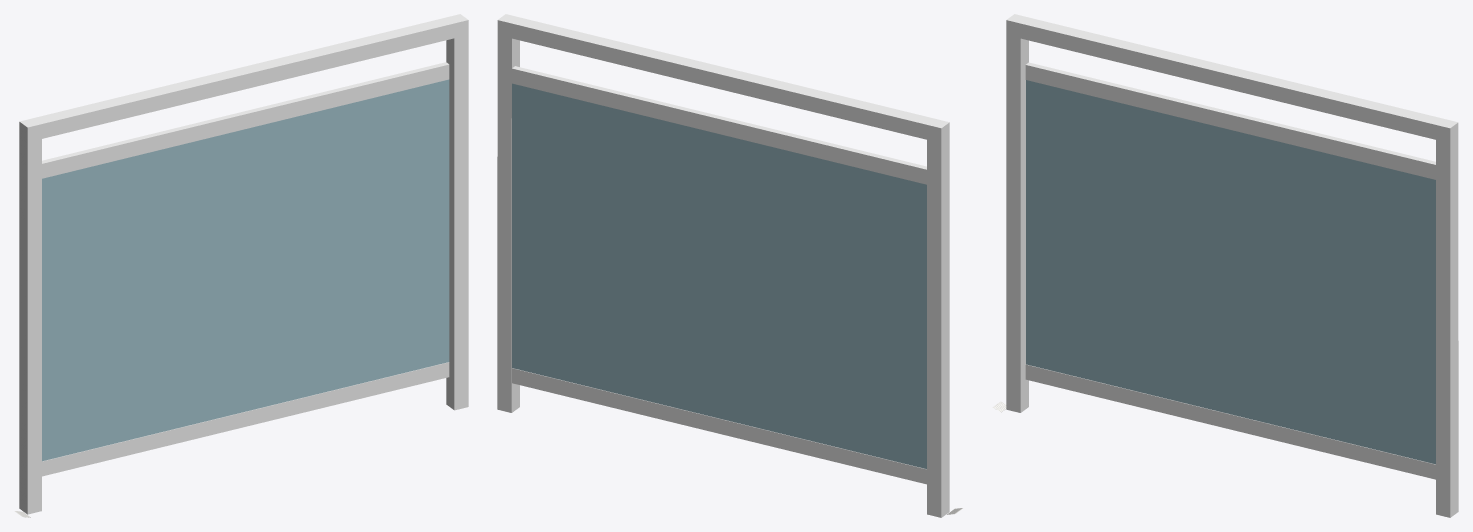
The model's file is railing.glb.
3 renders of one model, left to right at view 1: azimuth 30°, elevation 25°; view 2: azimuth 150°, elevation 25°; view 3: azimuth 330°, elevation 25°, orthographic.
Parts seen in each view (by area): view 1: railing_glass; view 2: railing_glass; view 3: railing_glass.
Part boxes in pixels (<box>): railing_glass: <box>19,14,468,514</box>; railing_glass: <box>497,14,949,517</box>; railing_glass: <box>1006,14,1458,517</box>.
Bounding box in the file's own units: 158 × 130 × 7.62.
